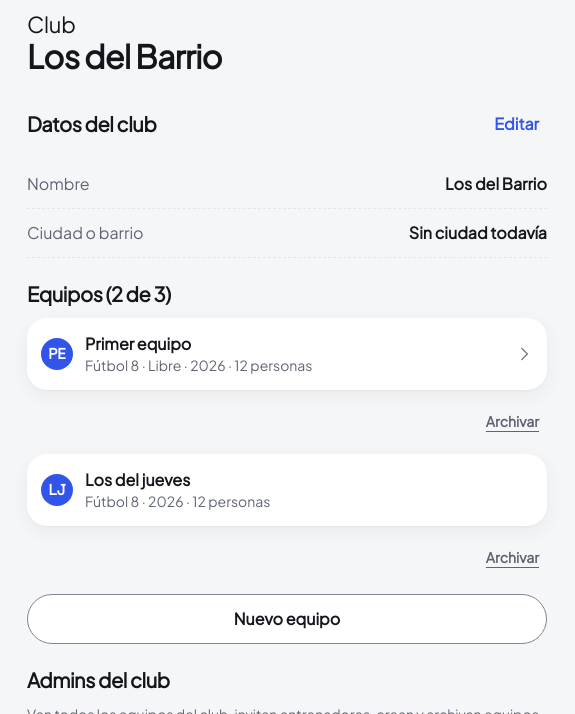
Test: el club (2026-10-29) › edita el nombre y la ciudad
Step 1. Click the button "Editar" → x=517, y=124, box [486,100,547,148]
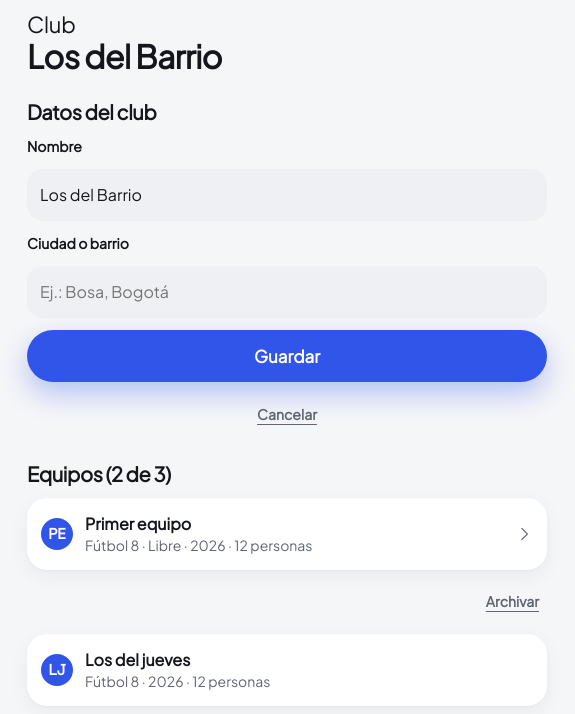
Step 2. Click the button "Guardar" → x=287, y=356, box [27,330,547,382]
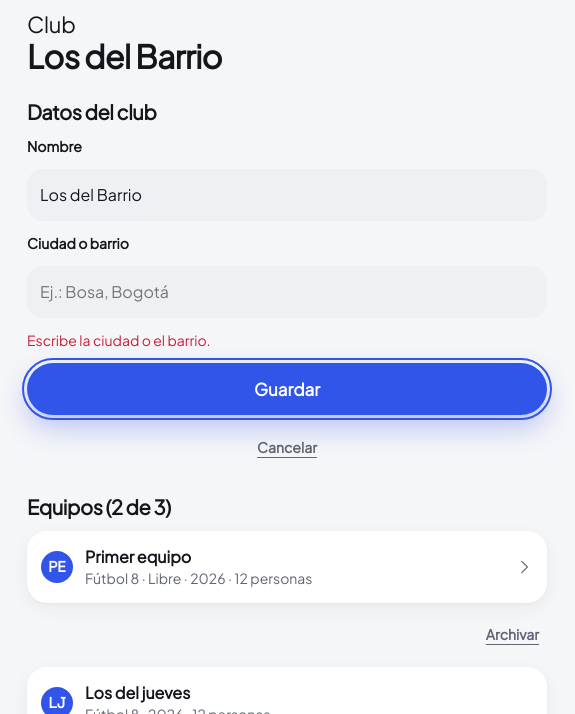
Now the message reads "Escribe la ciudad o el barrio.", box [27,331,211,349]
Step 3. Type "Bosa" into the field labelled "Ciudad o barrio" → x=287, y=292, box [27,266,547,318]
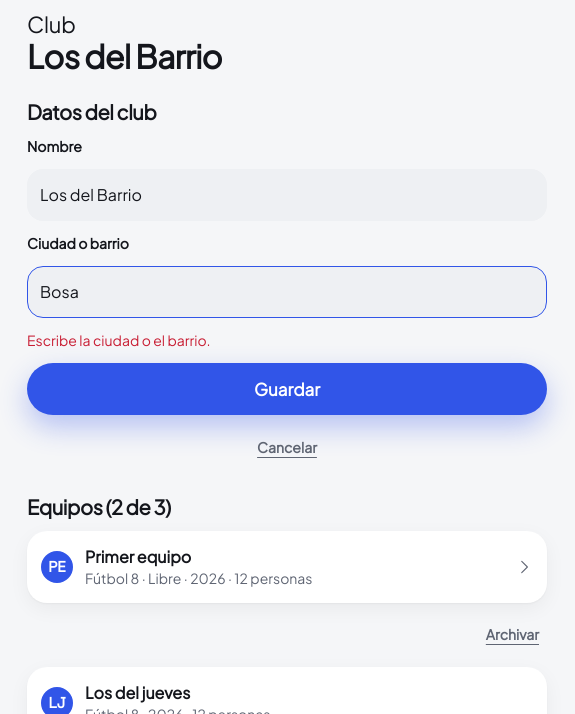
Step 4. Click the button "Guardar" → x=287, y=389, box [27,363,547,415]
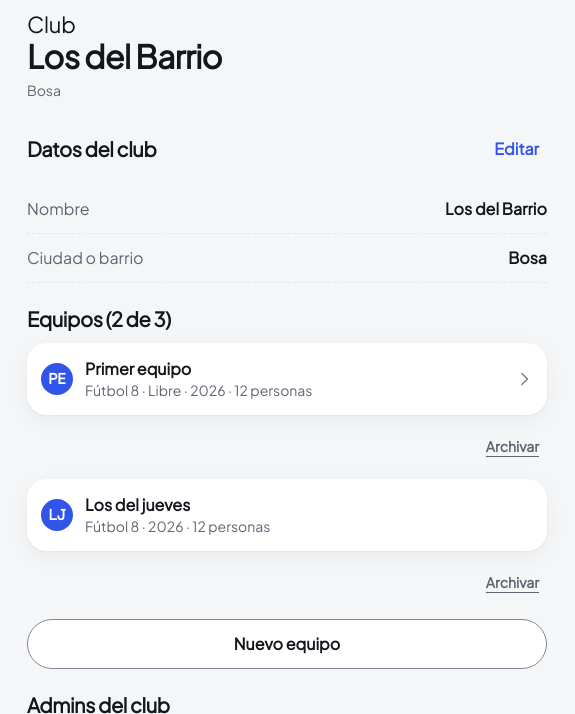
Now the text "Bosa" in the row of "Ciudad o barrio" is shown, box [508,247,547,268]
